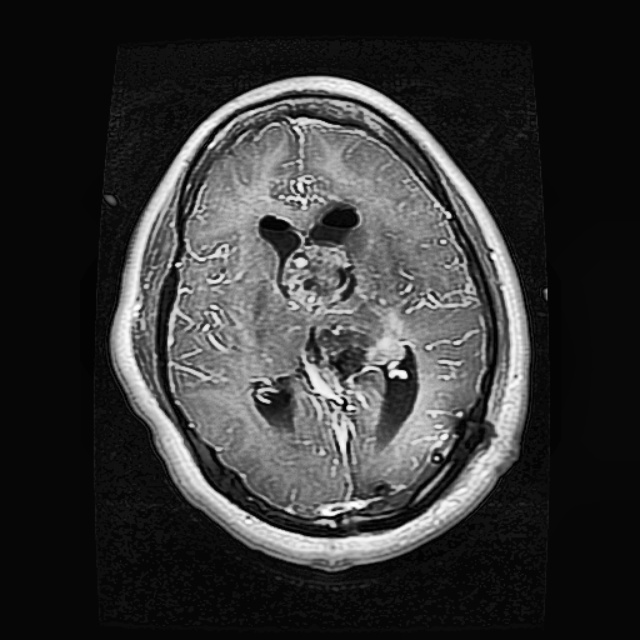Glioma: (275, 238, 403, 372)
